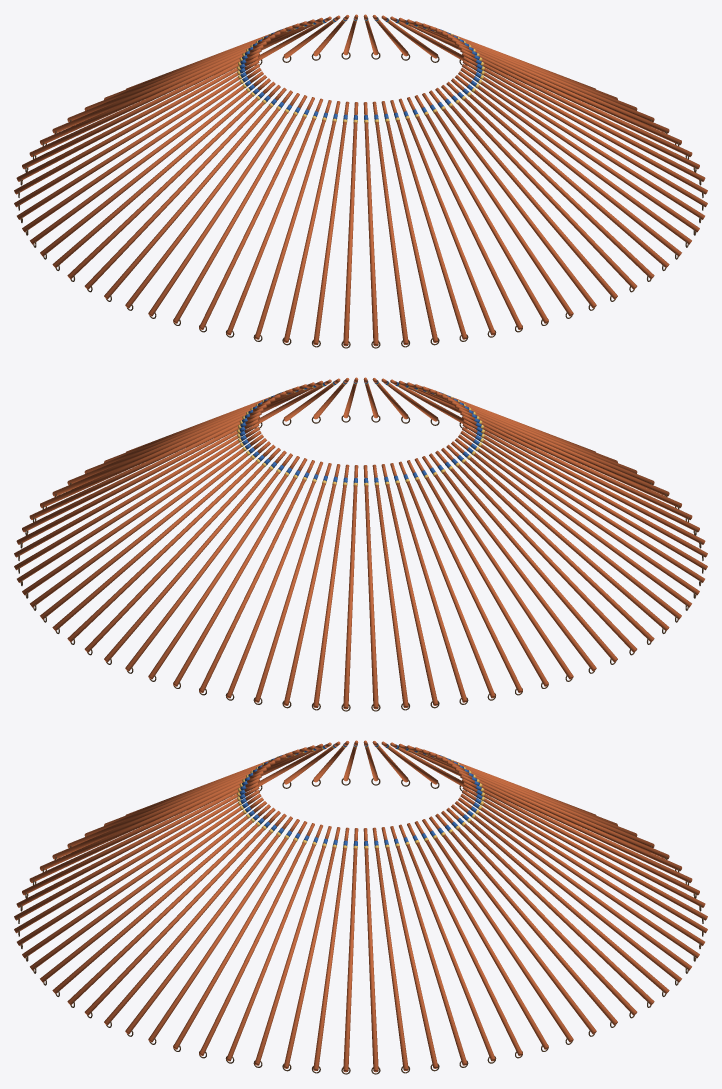
File: uni.glb
3 views of the same model, one above another, from view 1: azimuth 30°, elevation 25°; view 2: azimuth 150°, elevation 25°; view 3: azimuth 270°, elevation 25° (orthographic).
Parts seen in each view (by area): view 1: Uni; view 2: Uni; view 3: Uni.
Boxes of the visible parts, bbox=[...] form: Uni: bbox=[14, 14, 707, 348]; Uni: bbox=[14, 377, 707, 711]; Uni: bbox=[14, 740, 707, 1074].
Bounding box in the file's own units: 6.29 × 1.46 × 6.29.
